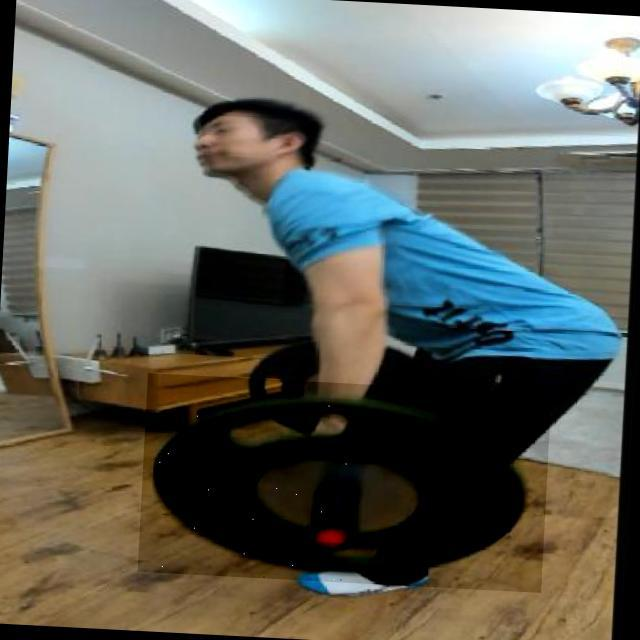barbell: (139, 374, 553, 594)
